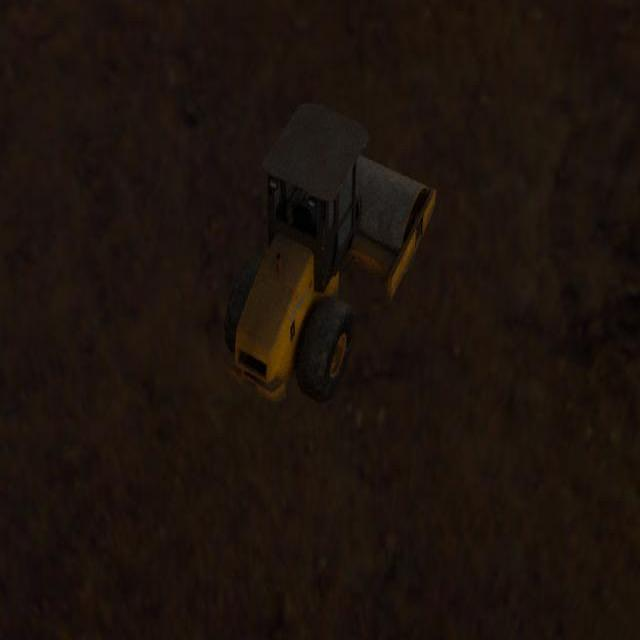Roller: (223, 101, 436, 404)
